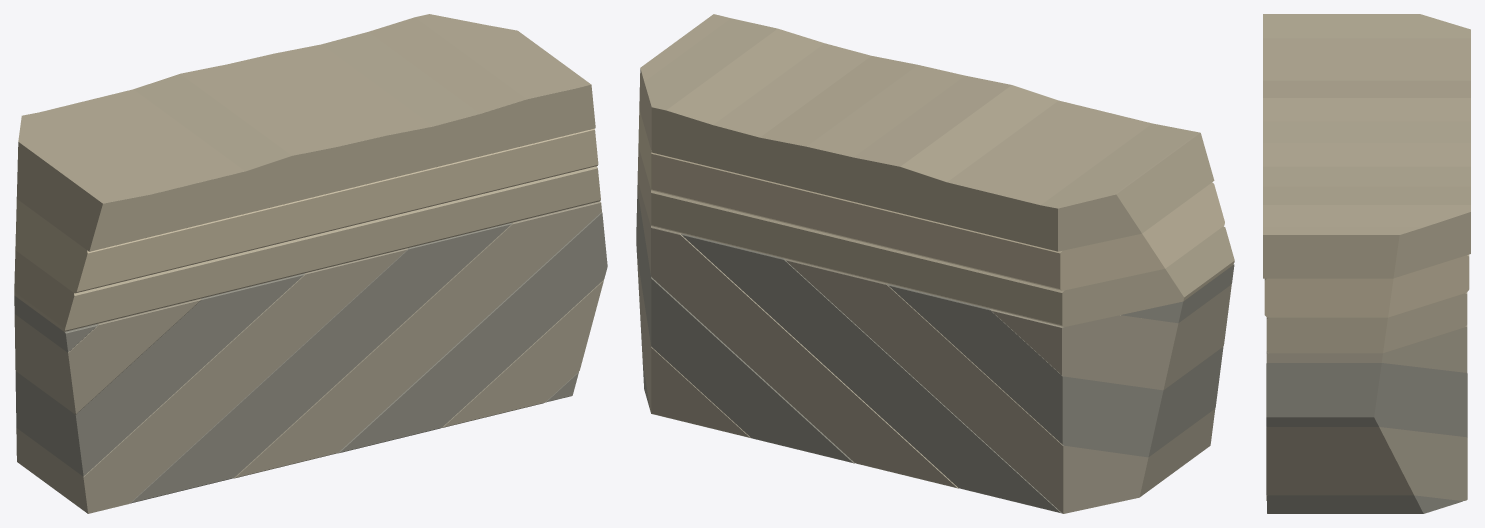
3 views of the same model, side by side, from view 1: azimuth 30°, elevation 25°; view 2: azimuth 150°, elevation 25°; view 3: azimuth 270°, elevation 25° (orthographic). The views are drawn at different scales.
Visible parts, largest first — view 1: Younger near-horizontal cover bed 02, Younger near-horizontal cover bed 01, Younger near-horizontal cover bed 00, Older tilted bed 05, Older tilted bed 03, Older tilted bed 04, Older tilted bed 06, Older tilted bed 02, Older tilted bed 07, Older tilted bed 01, Older tilted bed 08; view 2: Younger near-horizontal cover bed 02, Younger near-horizontal cover bed 01, Older tilted bed 05, Younger near-horizontal cover bed 00, Older tilted bed 04, Older tilted bed 06, Older tilted bed 03, Older tilted bed 07, Older tilted bed 02, Older tilted bed 01, Older tilted bed 08; view 3: Younger near-horizontal cover bed 02, Older tilted bed 01, Older tilted bed 02, Younger near-horizontal cover bed 01, Younger near-horizontal cover bed 00, Older tilted bed 03, Older tilted bed 00.
Boxes of the visible parts, x1,y1,x2,y2 form: Younger near-horizontal cover bed 02: (16,14,595,251); Younger near-horizontal cover bed 01: (15,128,598,293); Younger near-horizontal cover bed 00: (14,166,600,331); Older tilted bed 05: (16,248,408,513); Older tilted bed 03: (233,201,601,478); Older tilted bed 04: (130,223,511,503); Older tilted bed 06: (15,273,304,476); Older tilted bed 02: (337,212,607,453); Older tilted bed 07: (14,298,201,414); Older tilted bed 01: (442,280,603,427); Older tilted bed 08: (14,295,97,352); Younger near-horizontal cover bed 02: (639,14,1214,251); Younger near-horizontal cover bed 01: (638,110,1224,290); Older tilted bed 05: (784,259,1215,513); Younger near-horizontal cover bed 00: (637,146,1234,326); Older tilted bed 04: (681,233,1061,513); Older tilted bed 06: (887,284,1223,457); Older tilted bed 03: (637,180,958,488); Older tilted bed 07: (990,284,1231,390); Older tilted bed 02: (636,190,854,463); Older tilted bed 01: (637,257,751,438); Older tilted bed 08: (1121,264,1234,323); Younger near-horizontal cover bed 02: (1263,14,1470,278); Older tilted bed 01: (1266,427,1467,500); Older tilted bed 02: (1266,363,1467,437); Younger near-horizontal cover bed 01: (1264,254,1469,317); Younger near-horizontal cover bed 00: (1266,292,1467,353); Older tilted bed 03: (1266,325,1467,372); Older tilted bed 00: (1267,495,1462,513).
Size of the model in its own units: 0.8183 by 0.4481 by 0.293.
